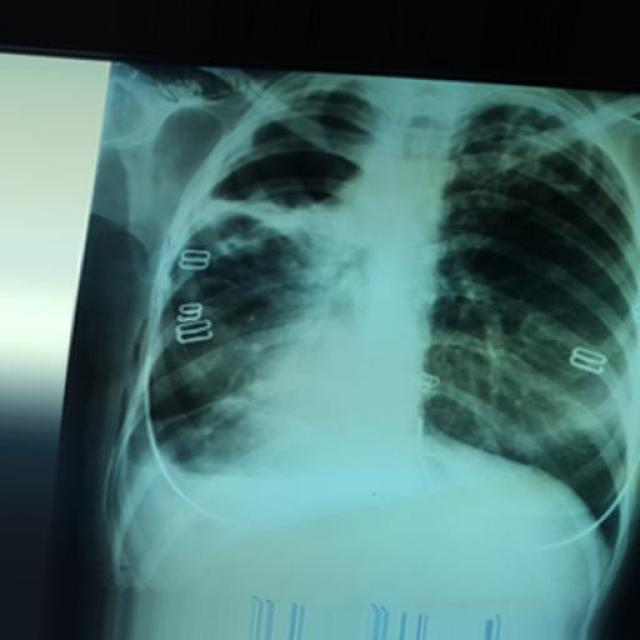tuberculosis: (61, 9, 640, 640)
